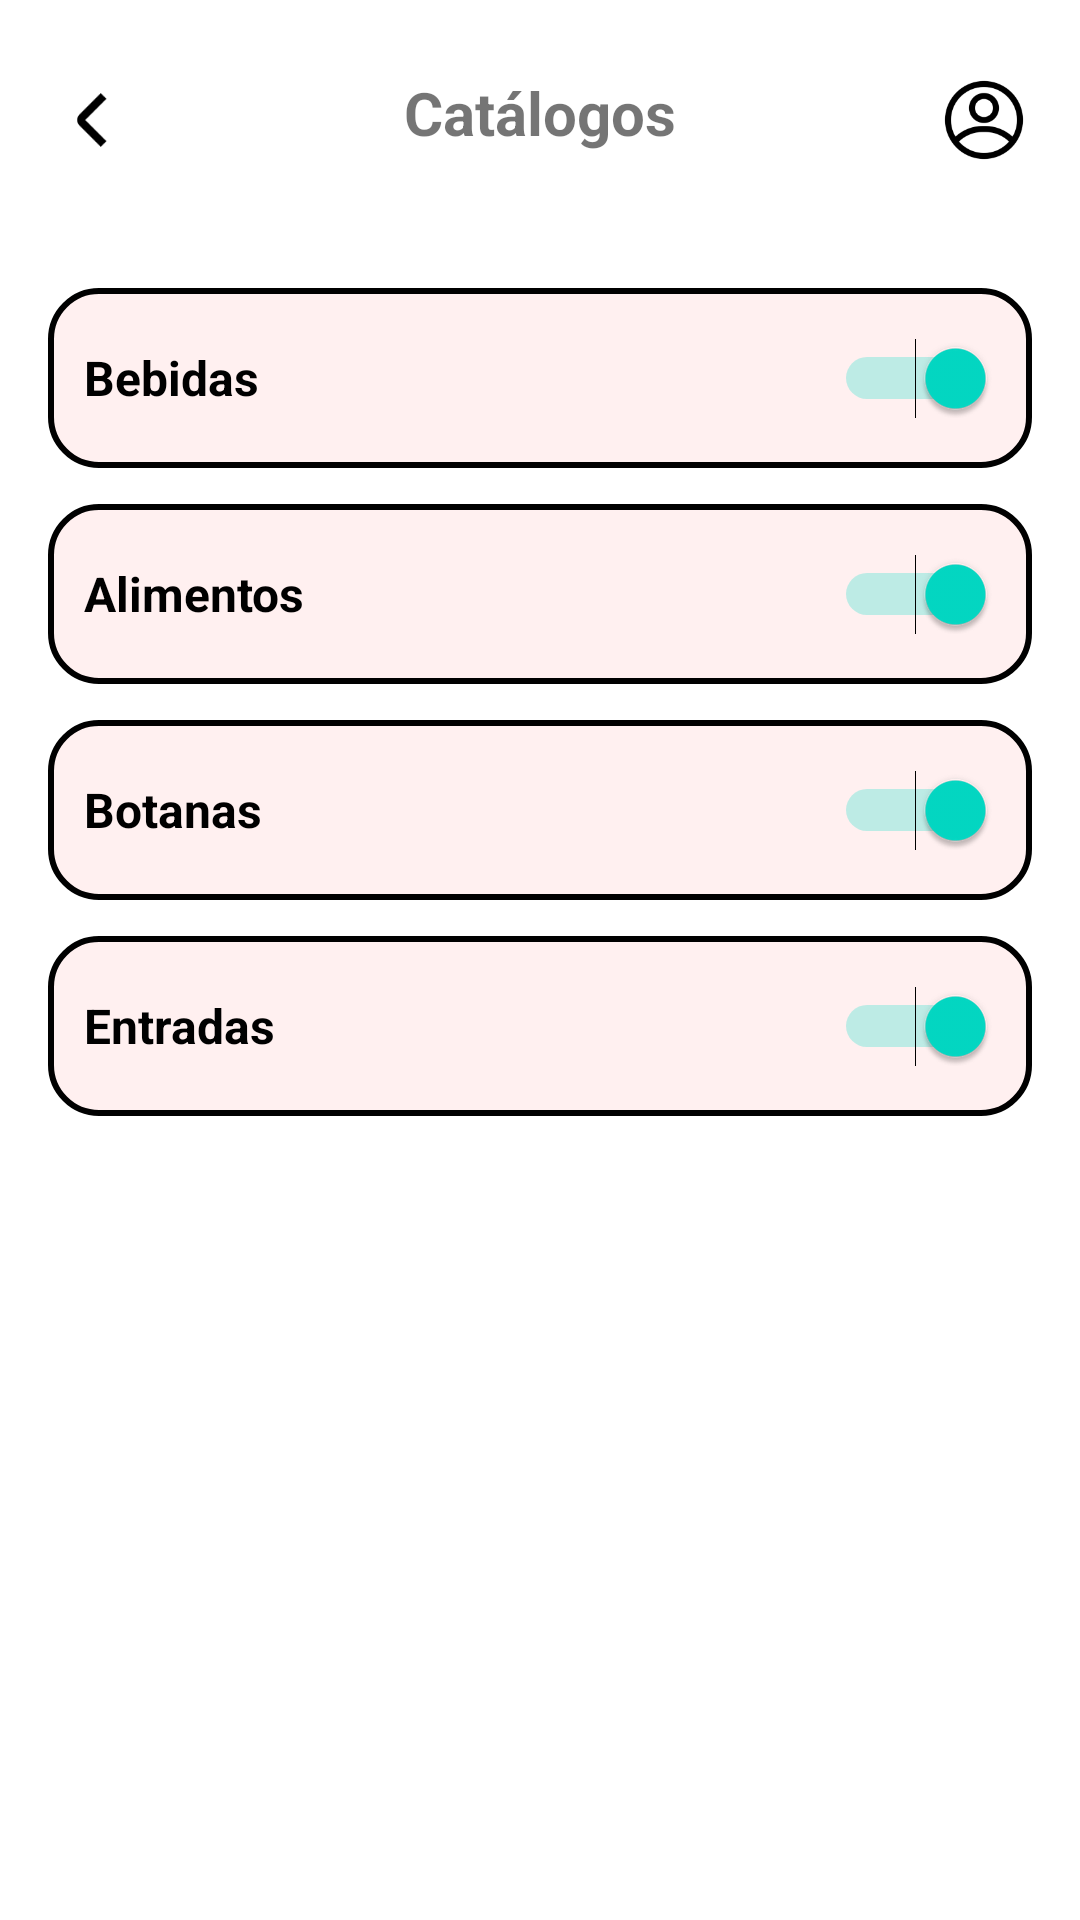

Icons on this 1080w x 1920h Android screen, each with its box as Rect(x1, y1, x2, y2):
Perfil: Rect(945, 81, 1023, 159)
Volver: Rect(77, 93, 107, 147)
